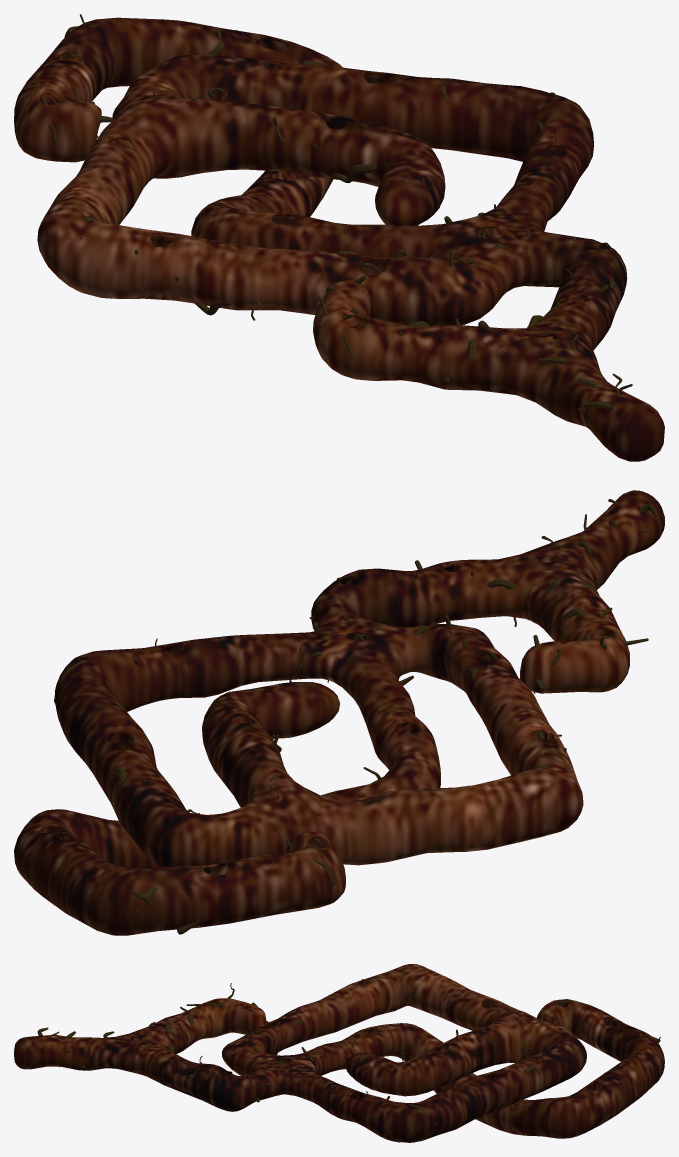
Rendered from globalgamejamroy.fbx.
3 views of the same model, one above another, from view 1: azimuth 30°, elevation 25°; view 2: azimuth 150°, elevation 25°; view 3: azimuth 270°, elevation 25° (orthographic). The views are drawn at different scales.
Visible parts, largest first — view 1: Plane.001; view 2: Plane.001; view 3: Plane.001.
Part boxes in pixels (bbox=[...]): Plane.001: bbox=[14, 17, 664, 461]; Plane.001: bbox=[14, 490, 664, 935]; Plane.001: bbox=[14, 964, 664, 1142].
Size of the model in its own units: 3234 by 841 by 5830.
2 materials, 1 textured.
